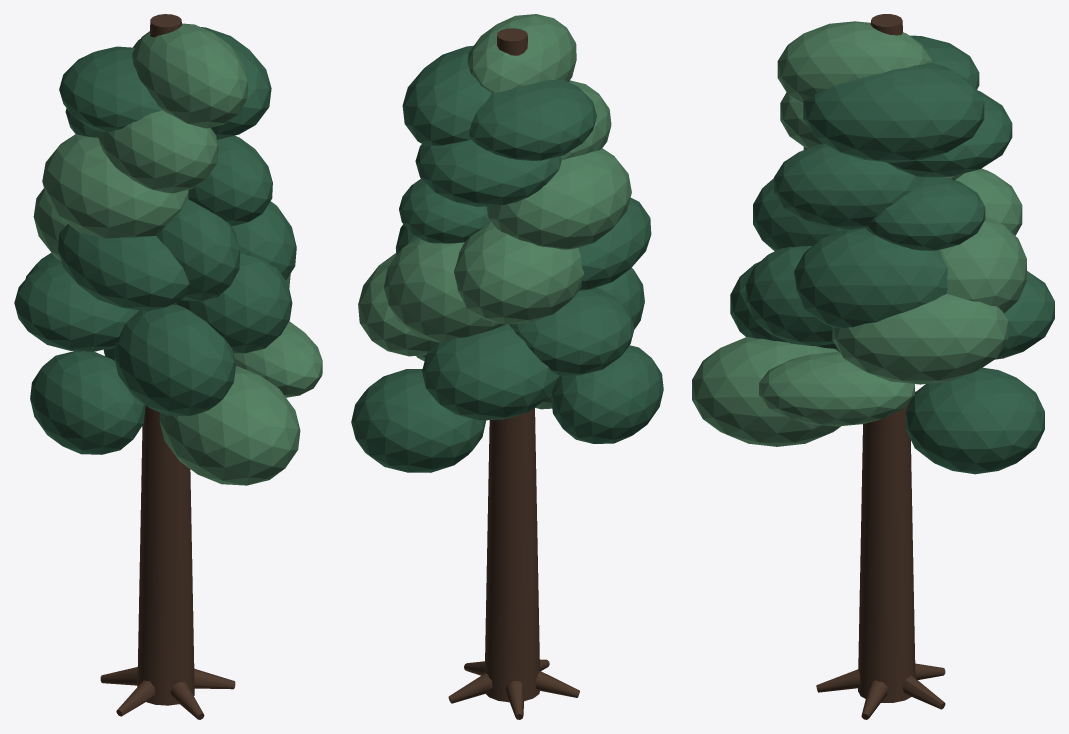
The model's file is tower-conifer.glb.
The picture shows the model from 3 angles, left to right: view 1: azimuth 30°, elevation 25°; view 2: azimuth 150°, elevation 25°; view 3: azimuth 270°, elevation 25°; orthographic projection. The views are drawn at different scales.
Parts seen in each view (by area): view 1: trunk, foliage-0, foliage-5, foliage-15, foliage-2, foliage-21, foliage-10, foliage-18, foliage-7, foliage-8, foliage-20, foliage-13 (+9 smaller); view 2: trunk, foliage-12, foliage-4, foliage-1, foliage-15, foliage-20, foliage-2, foliage-9, foliage-7, foliage-17, foliage-21, foliage-19 (+8 smaller); view 3: trunk, foliage-19, foliage-1, foliage-11, foliage-6, foliage-0, foliage-16, foliage-3, foliage-21, foliage-14, foliage-9, foliage-8 (+10 smaller).
Part boxes in pixels (left/top/right/bottom): trunk: left=137, top=14, right=194, bottom=705; foliage-0: left=159, top=366, right=300, bottom=485; foliage-5: left=114, top=304, right=235, bottom=415; foliage-15: left=42, top=134, right=188, bottom=238; foliage-2: left=30, top=351, right=145, bottom=454; foliage-21: left=132, top=23, right=248, bottom=128; foliage-10: left=58, top=224, right=189, bottom=310; foliage-18: left=98, top=110, right=218, bottom=193; foliage-7: left=14, top=260, right=138, bottom=351; foliage-8: left=174, top=253, right=292, bottom=353; foliage-20: left=59, top=46, right=162, bottom=131; foliage-13: left=156, top=199, right=240, bottom=301; trunk: left=484, top=28, right=539, bottom=702; foliage-12: left=454, top=222, right=584, bottom=324; foliage-4: left=422, top=324, right=560, bottom=420; foliage-1: left=351, top=369, right=486, bottom=472; foliage-15: left=486, top=148, right=631, bottom=249; foliage-20: left=469, top=79, right=596, bottom=160; foliage-2: left=551, top=345, right=663, bottom=443; foliage-9: left=384, top=237, right=505, bottom=342; foliage-7: left=509, top=288, right=634, bottom=376; foliage-17: left=415, top=139, right=561, bottom=206; foliage-21: left=467, top=14, right=576, bottom=92; foliage-19: left=402, top=45, right=491, bottom=145; trunk: left=858, top=14, right=915, bottom=702; foliage-19: left=803, top=62, right=984, bottom=162; foliage-1: left=906, top=367, right=1044, bottom=474; foliage-11: left=794, top=228, right=947, bottom=328; foliage-6: left=832, top=294, right=1008, bottom=384; foliage-0: left=692, top=337, right=841, bottom=446; foliage-16: left=774, top=143, right=924, bottom=229; foliage-3: left=759, top=352, right=914, bottom=426; foliage-21: left=777, top=21, right=932, bottom=104; foliage-14: left=865, top=177, right=985, bottom=250; foliage-9: left=939, top=217, right=1026, bottom=313; foliage-8: left=745, top=246, right=834, bottom=346.
Size of the model in its own units: 2.54 by 6.35 by 3.11.
